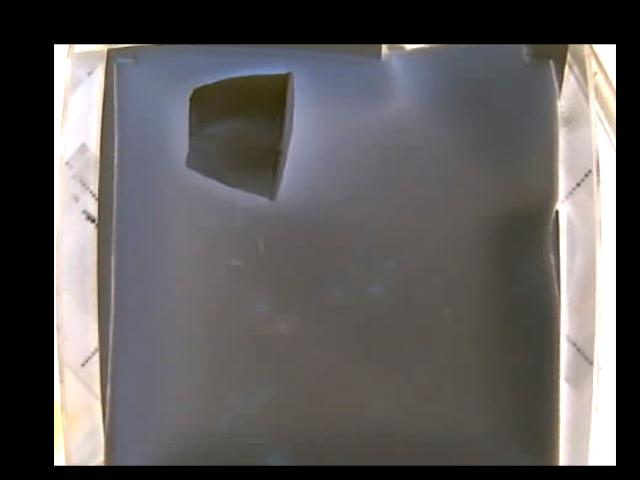Cup: (184, 71, 295, 202)
